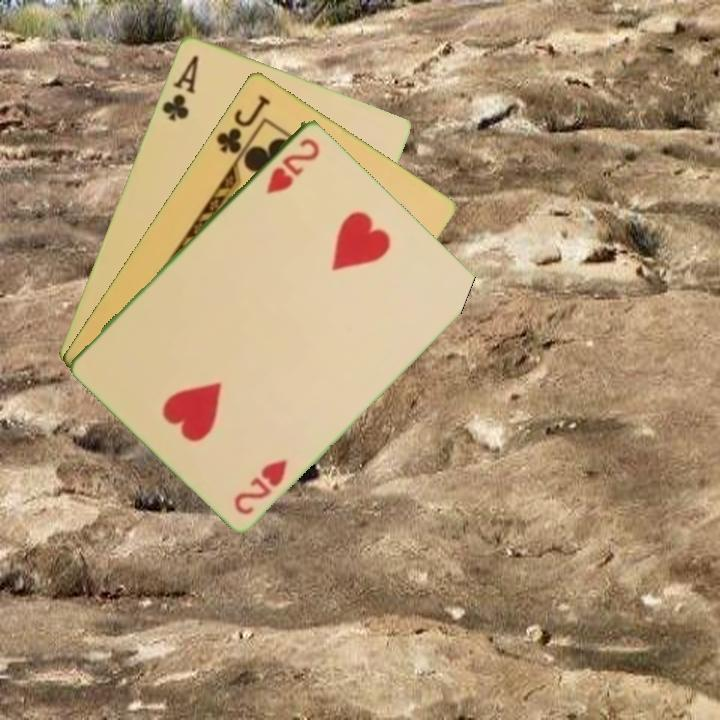2h: (230, 455, 291, 517), (262, 134, 322, 197)
Ac: (158, 51, 201, 124)
Jc: (212, 90, 273, 166)
